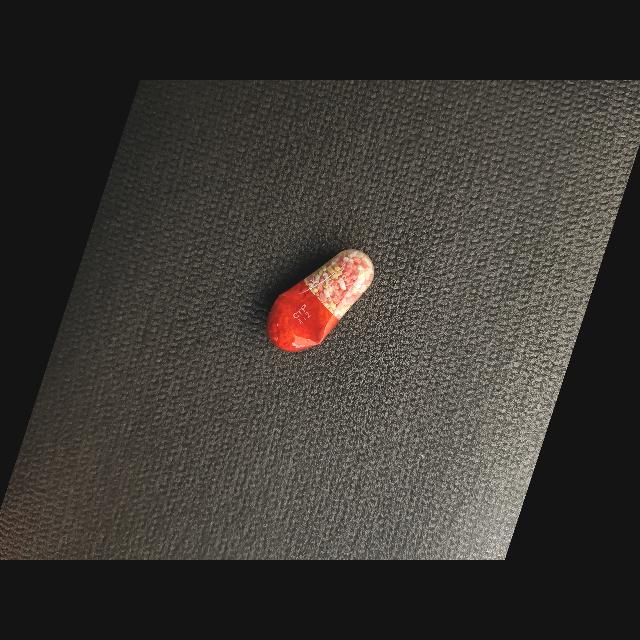Defective Capsule: (267, 249, 374, 352)
